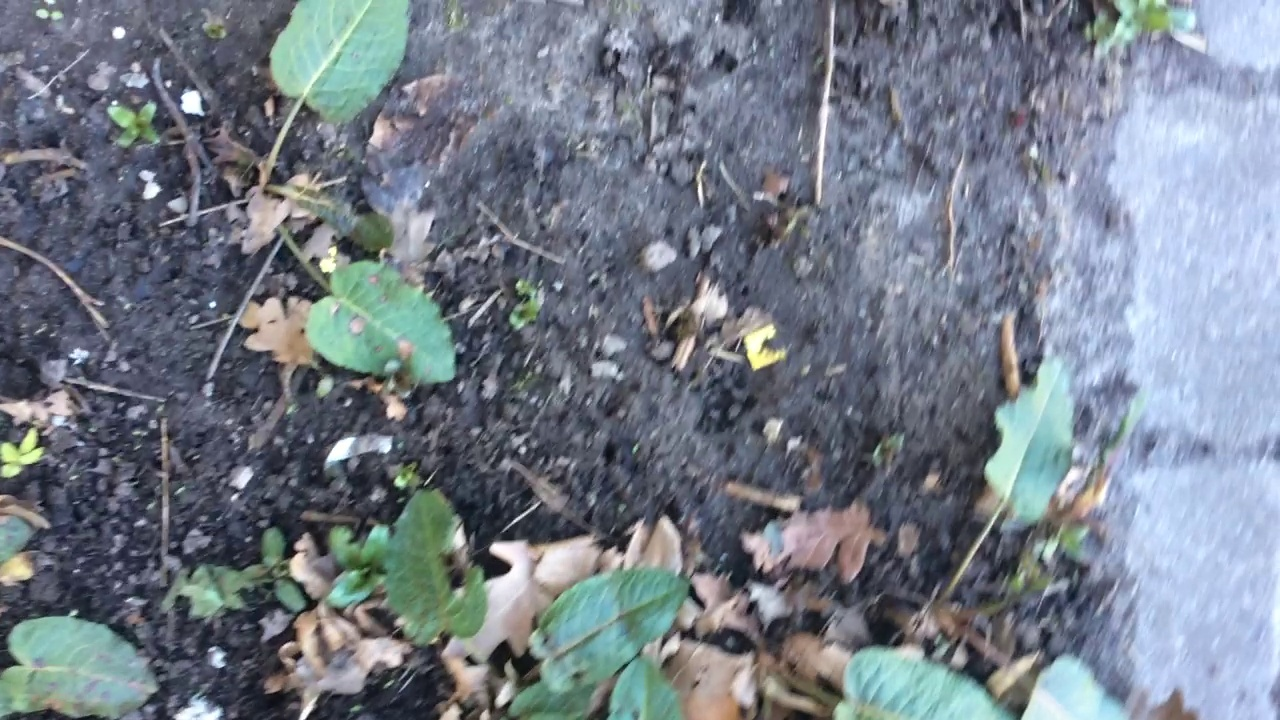rumex: (797, 370, 1177, 720), (215, 1, 476, 411), (367, 475, 697, 720), (1, 606, 159, 720)
